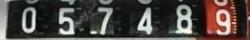digits: (175, 4, 193, 32), (57, 7, 75, 34), (214, 9, 231, 34), (97, 7, 113, 33), (137, 7, 152, 33), (21, 7, 36, 32)
